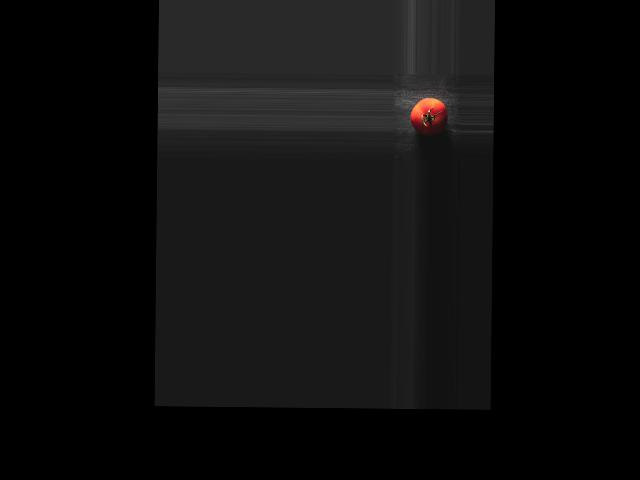tomato: (410, 97, 447, 135)
